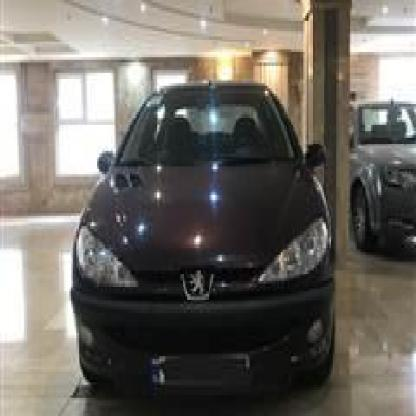Car: (51, 75, 341, 390), (333, 78, 416, 260)
